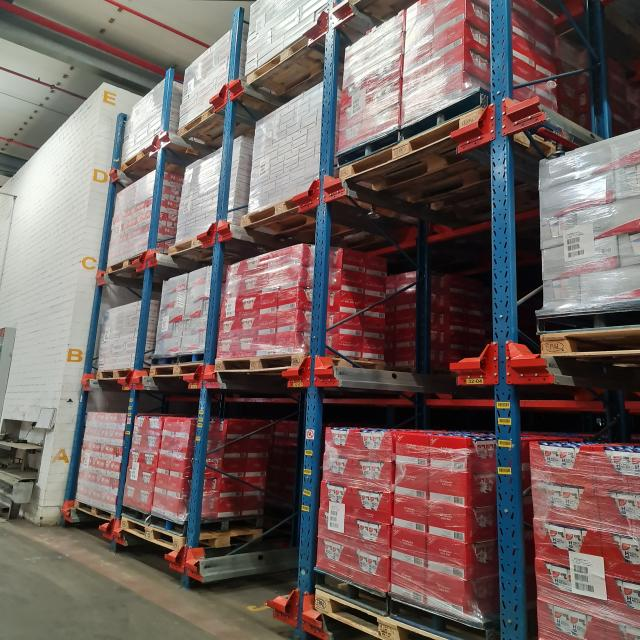Carton: (316, 427, 498, 625), (337, 0, 491, 153), (530, 439, 640, 640), (537, 129, 640, 313), (216, 244, 313, 358), (247, 81, 323, 215), (121, 415, 196, 522), (324, 248, 383, 360), (246, 0, 328, 74), (178, 28, 232, 130), (73, 412, 125, 512), (153, 266, 211, 355), (106, 170, 156, 267), (175, 147, 222, 244), (122, 77, 165, 164), (97, 300, 142, 370)
